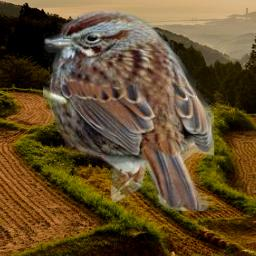Sparrow: (43, 11, 214, 211)
